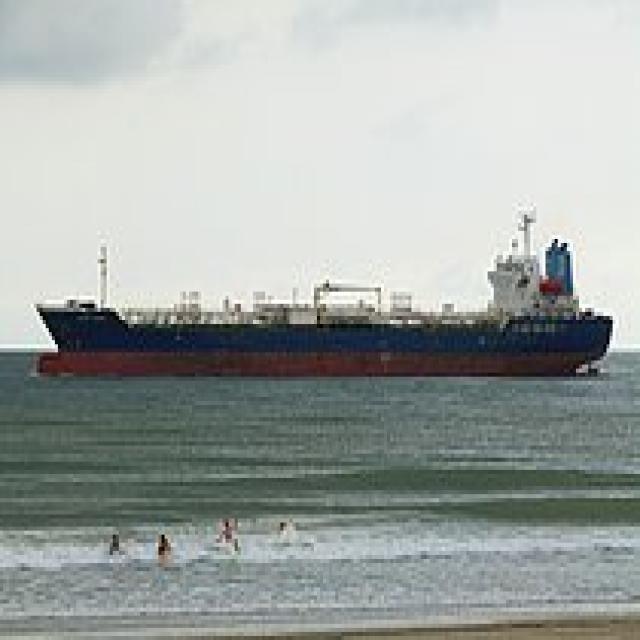Tanker: (31, 206, 610, 368)
